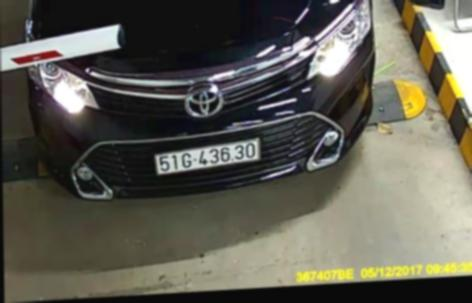License_Plate: (148, 138, 266, 174)
